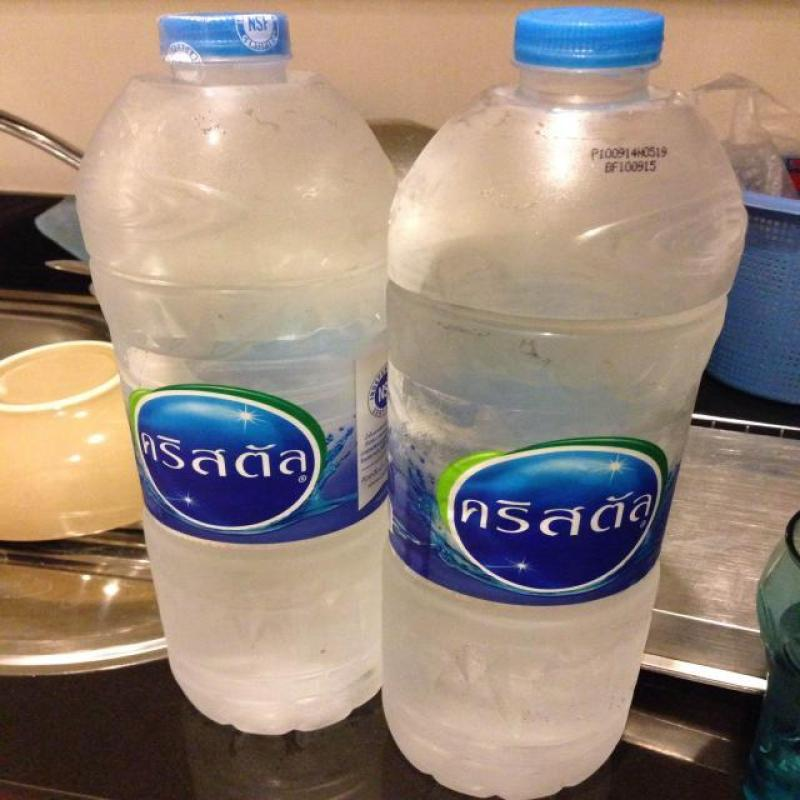botella: (377, 8, 752, 798), (82, 15, 396, 740)
